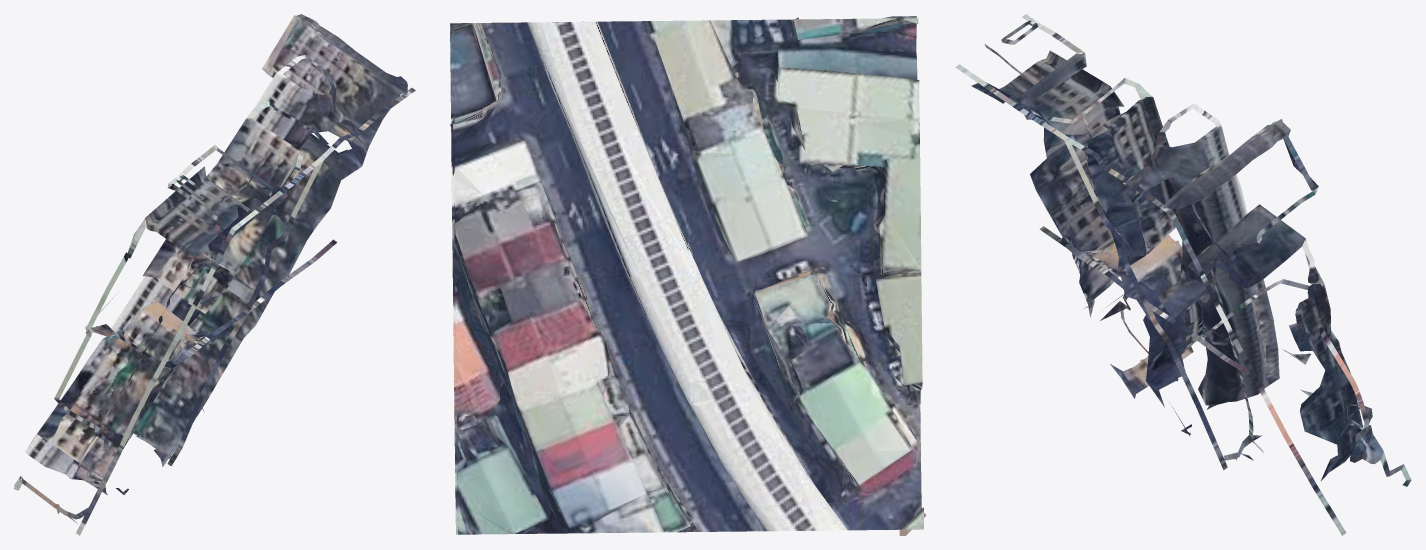
The picture shows the model from 3 angles, left to right: view 1: azimuth 30°, elevation 25°; view 2: azimuth 150°, elevation 25°; view 3: azimuth 270°, elevation 25°; orthographic projection. The views are drawn at different scales.
Size of the model in its own units: 83.24 by 80.2 by 77.06.
2 materials, 2 textured.
